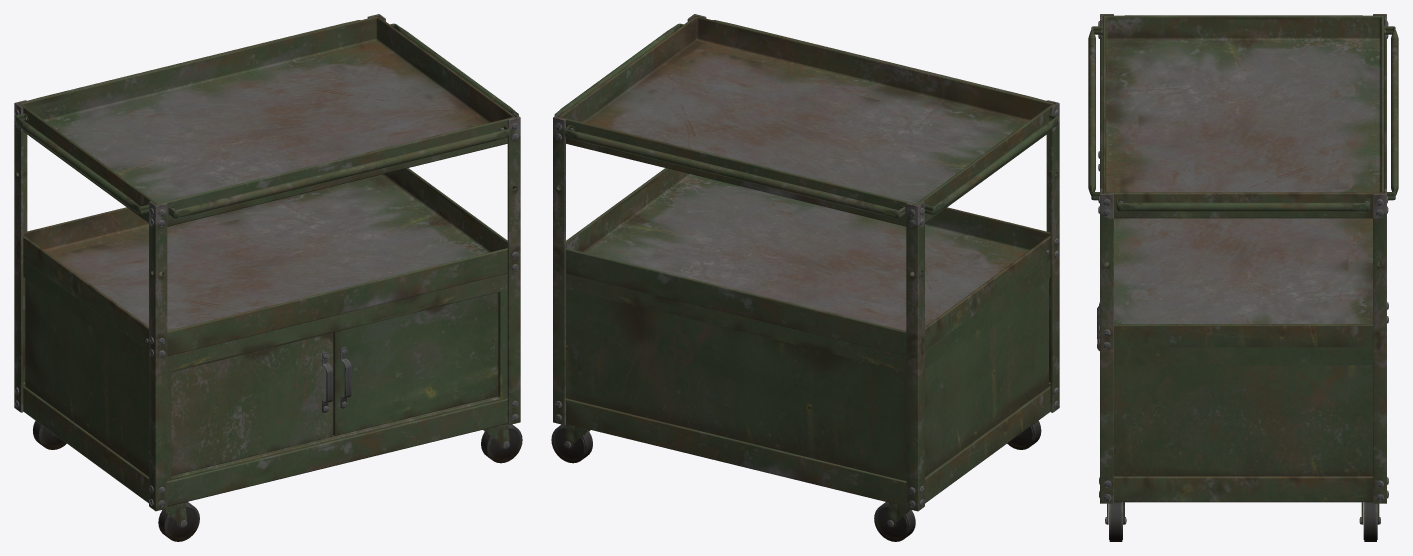
The model's file is industrial_storage_cart.glb.
3 views of the same model, side by side, from view 1: azimuth 30°, elevation 25°; view 2: azimuth 150°, elevation 25°; view 3: azimuth 270°, elevation 25° (orthographic).
Parts seen in each view (by area): view 1: industrial_storage_cart; view 2: industrial_storage_cart; view 3: industrial_storage_cart.
Part boxes in pixels (x1,y1,x2,y2): industrial_storage_cart: (14, 14, 522, 541); industrial_storage_cart: (551, 14, 1059, 541); industrial_storage_cart: (1088, 14, 1398, 541).
Bounding box in the file's own units: 1.6 × 1.38 × 1.1.
1 material, 1 textured.
